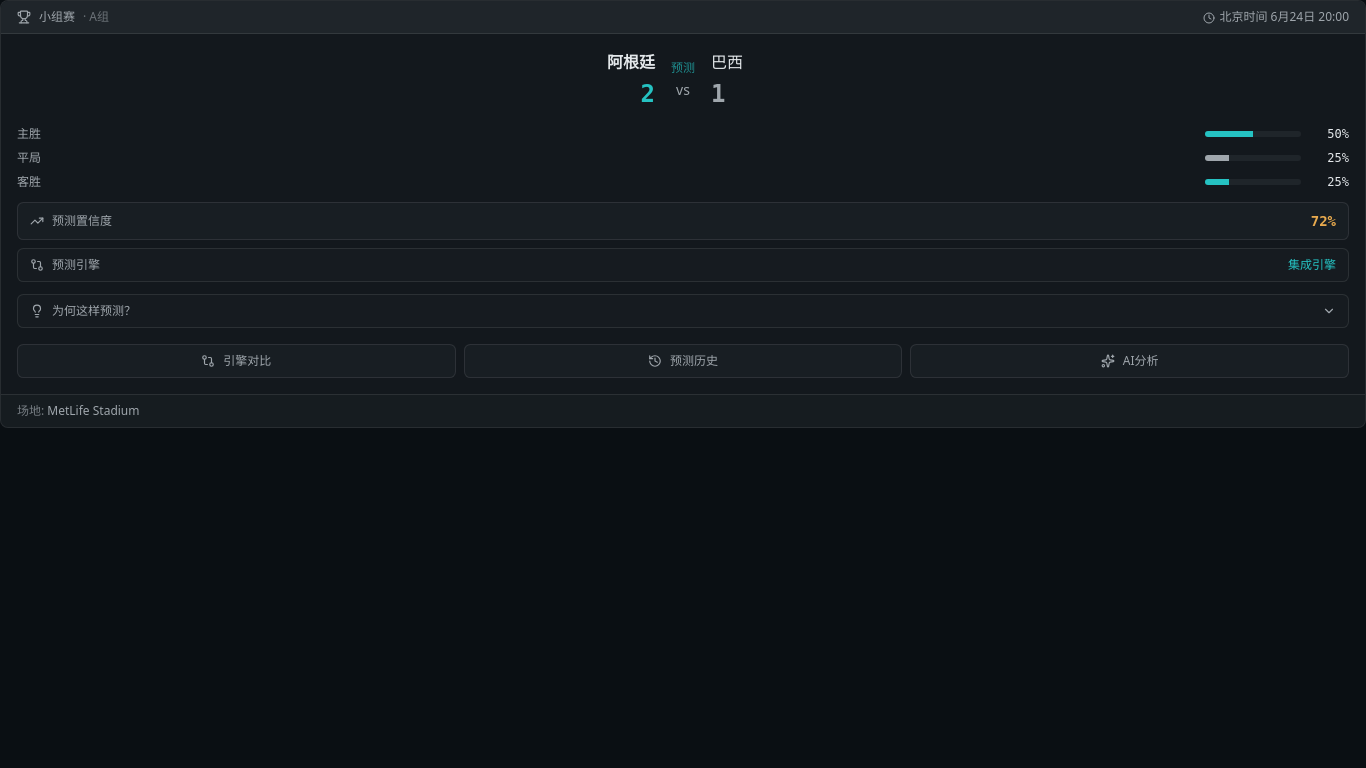
Test: MatchPredictionCard engine label › shows explanation contribution breakdown in the explanation panel
Click the button "为何这样预测？" at x=94, y=311, box x1=17 y1=294 x2=1349 y2=328
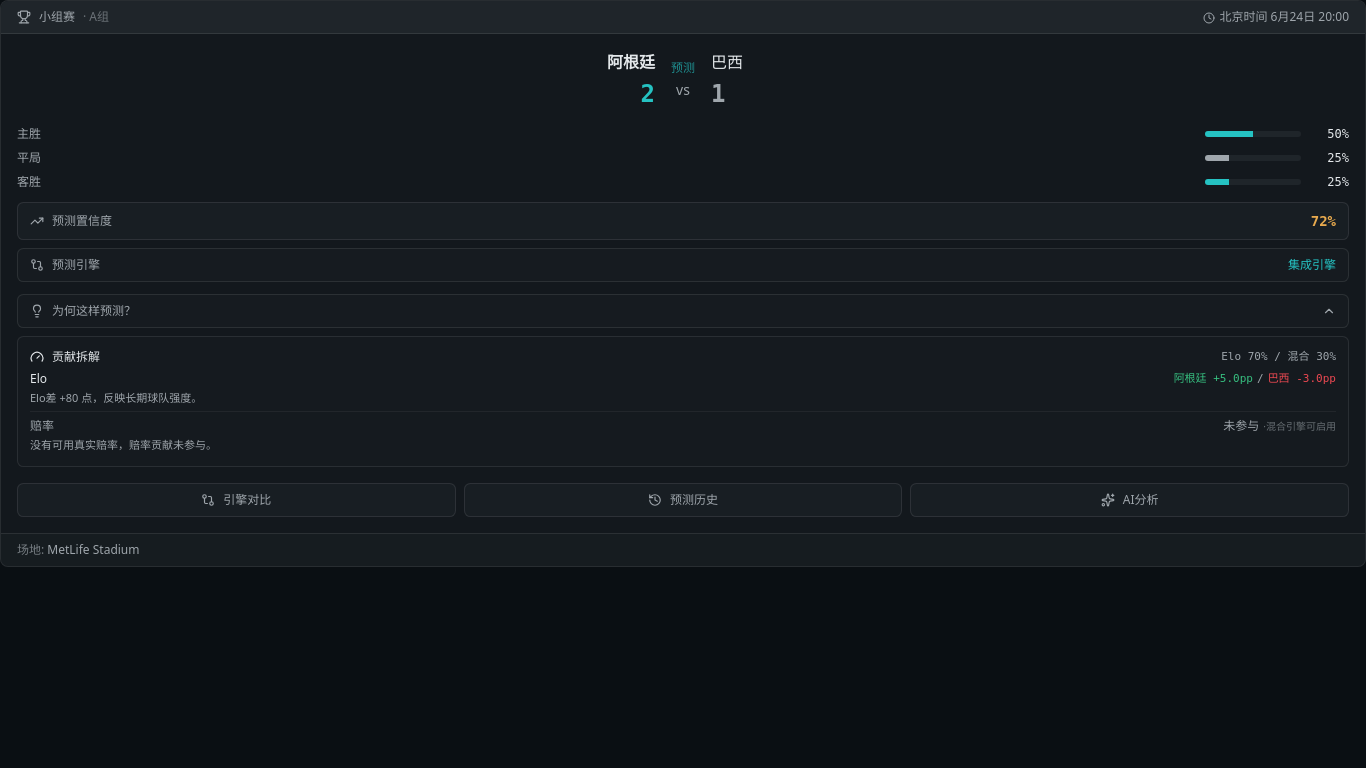
Result: the text "贡献拆解" is shown at x1=52 y1=349 x2=100 y2=365
Result: the text "Elo 70% / 混合 30%" is shown at x1=1221 y1=350 x2=1336 y2=365
Result: the text "Elo" is shown at x1=30 y1=371 x2=47 y2=387
